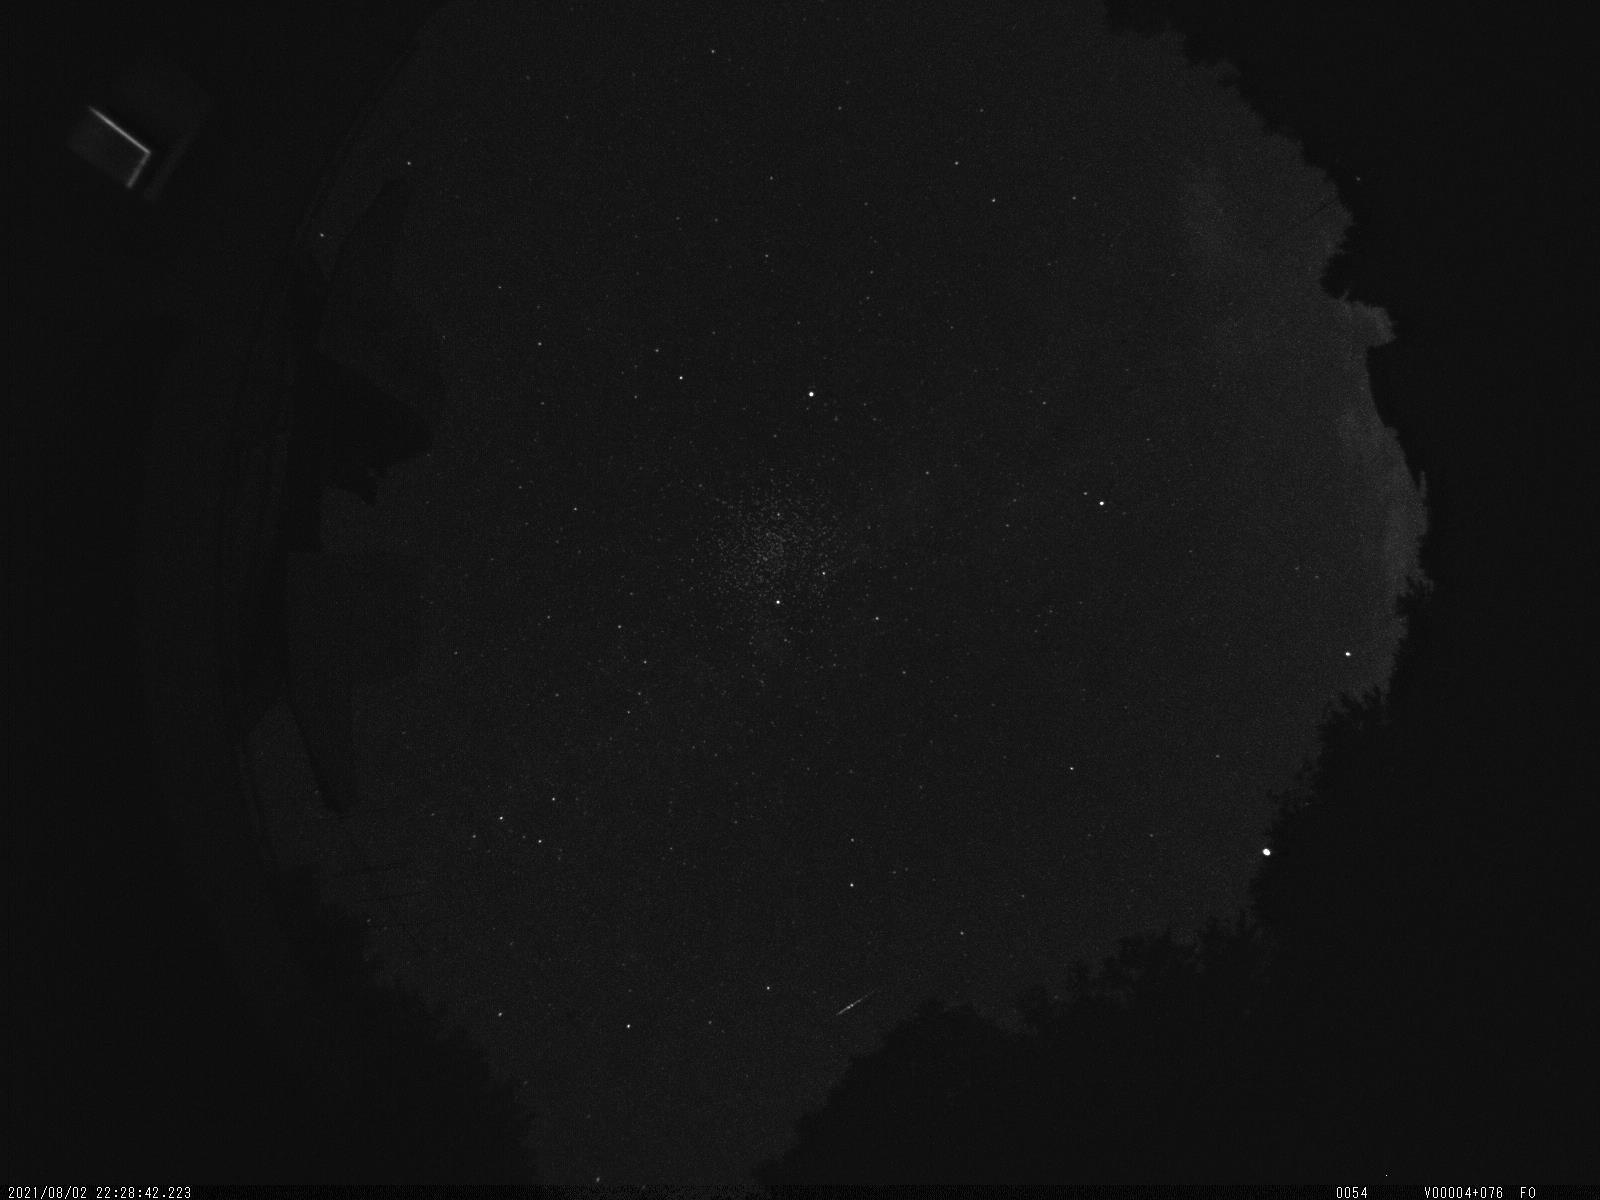Meteor: (829, 979, 890, 1025)
